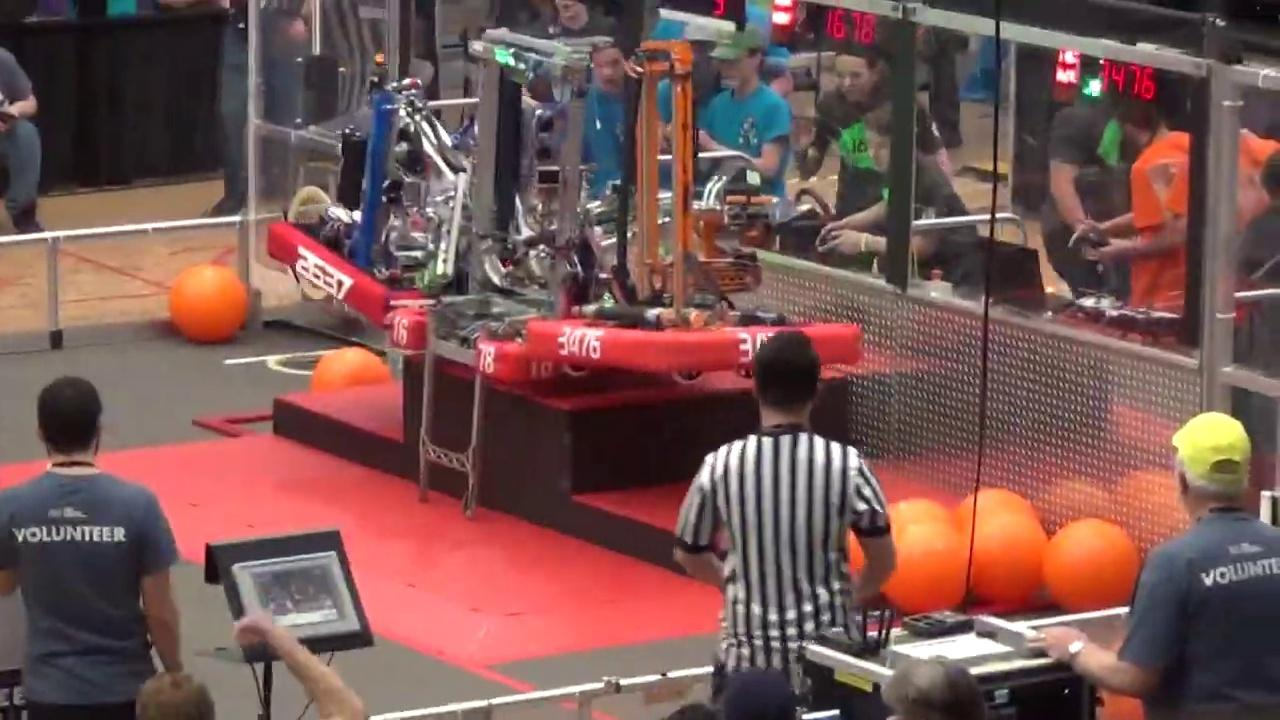robot: (526, 51, 860, 386), (388, 23, 595, 390), (266, 71, 459, 321)
